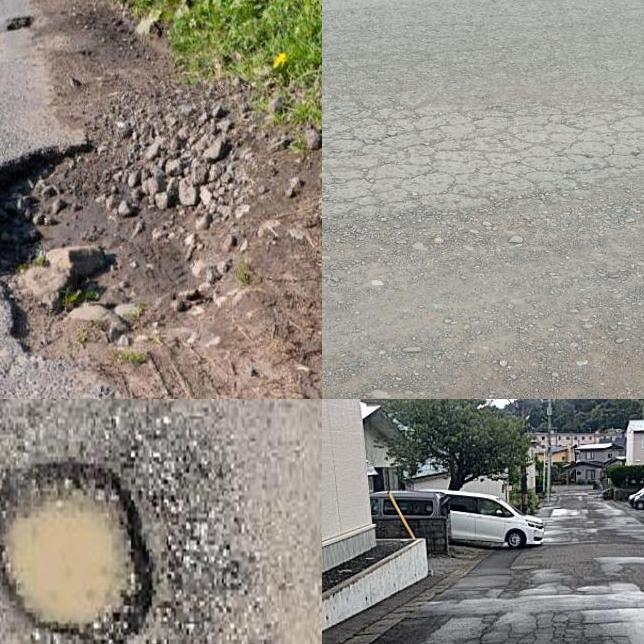Lubang: (0, 460, 151, 644)
Pinggir: (0, 126, 212, 399)
Retak Buaya: (322, 108, 644, 216)
